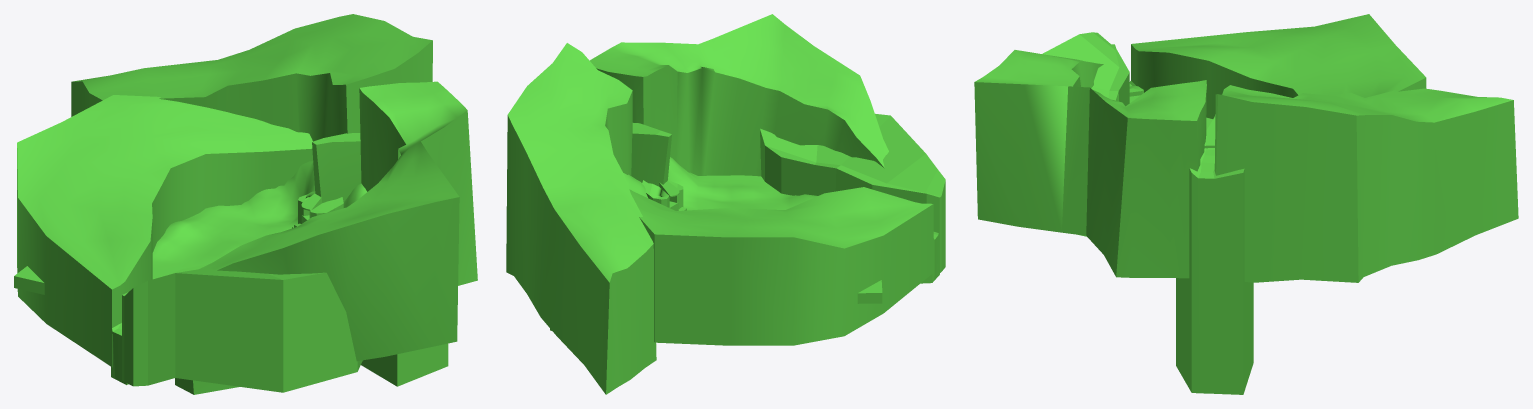
Rendered from Zone1Final 1.FBX.
The picture shows the model from 3 angles, left to right: view 1: azimuth 30°, elevation 25°; view 2: azimuth 150°, elevation 25°; view 3: azimuth 270°, elevation 25°; orthographic projection. The views are drawn at different scales.
Visible parts, largest first — view 1: Plane001, New_Game_Object__1__1, New_Game_Object_10, New_Game_Object_11, Box001, New_Game_Object_7, New_Game_Object, New_Game_Object_5; view 2: New_Game_Object_11, Plane001, New_Game_Object__1__1, New_Game_Object_10, Box001, New_Game_Object_7, New_Game_Object__31_001; view 3: New_Game_Object_11, New_Game_Object__1__1, Plane001, New_Game_Object, New_Game_Object_10.
Boxes of the visible parts, box(x1,y1,x2,y2) form: Plane001: box(17, 95, 313, 366); New_Game_Object__1__1: box(175, 81, 477, 394); New_Game_Object_10: box(122, 264, 362, 392); New_Game_Object_11: box(71, 14, 432, 141); Box001: box(14, 161, 366, 294); New_Game_Object_7: box(312, 133, 361, 202); New_Game_Object: box(361, 343, 448, 386); New_Game_Object_5: box(111, 323, 128, 384); New_Game_Object_11: box(506, 43, 656, 394); Plane001: box(629, 187, 933, 345); New_Game_Object__1__1: box(589, 14, 888, 176); New_Game_Object_10: box(760, 113, 945, 273); Box001: box(623, 157, 882, 303); New_Game_Object_7: box(631, 123, 671, 186); New_Game_Object__31_001: box(642, 180, 669, 207); New_Game_Object_11: box(1214, 85, 1518, 282); New_Game_Object__1__1: box(974, 50, 1206, 278); Plane001: box(1131, 14, 1426, 118); New_Game_Object: box(1176, 148, 1253, 394); New_Game_Object_10: box(1042, 32, 1129, 106).
Size of the model in its own units: 32889 by 25268 by 41802.
